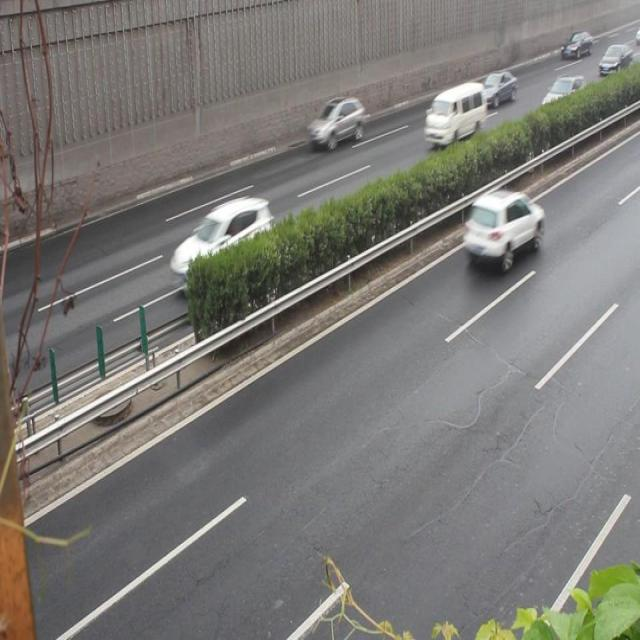car: (170, 197, 276, 292), (461, 190, 544, 264), (309, 97, 365, 152), (541, 77, 587, 121), (480, 70, 515, 104)
truck: (423, 81, 484, 149)
